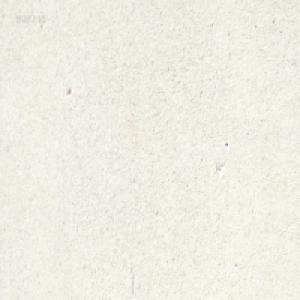Wrench: (113, 0, 119, 4)
